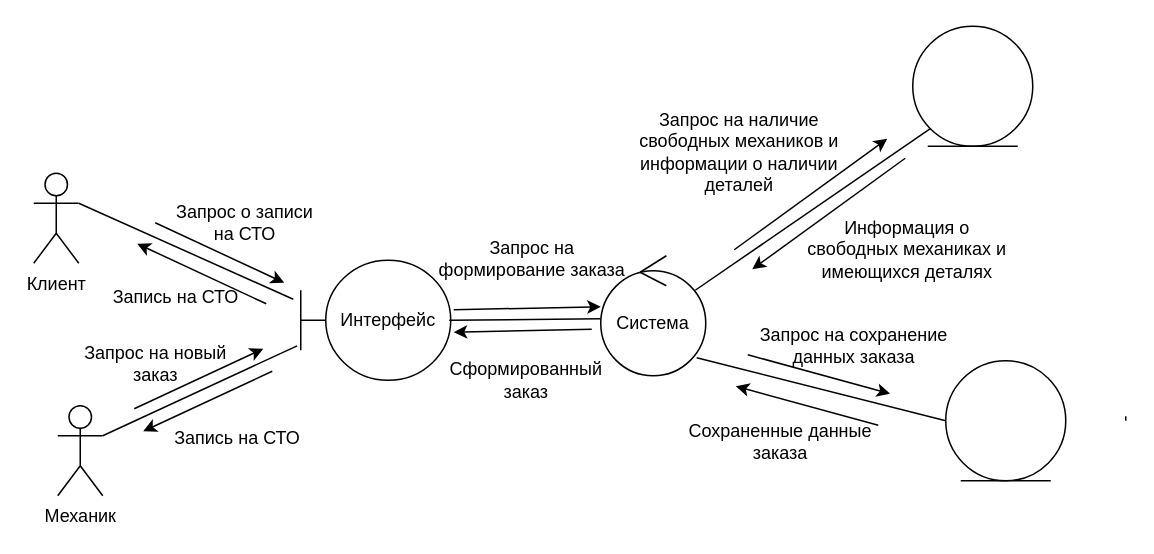
Image size: 1154x554. Some labels were removed from this diagram. Each missing label, with the centre of its shape:
База данных компании: point (972, 85)
База заказов: point (1005, 420)
